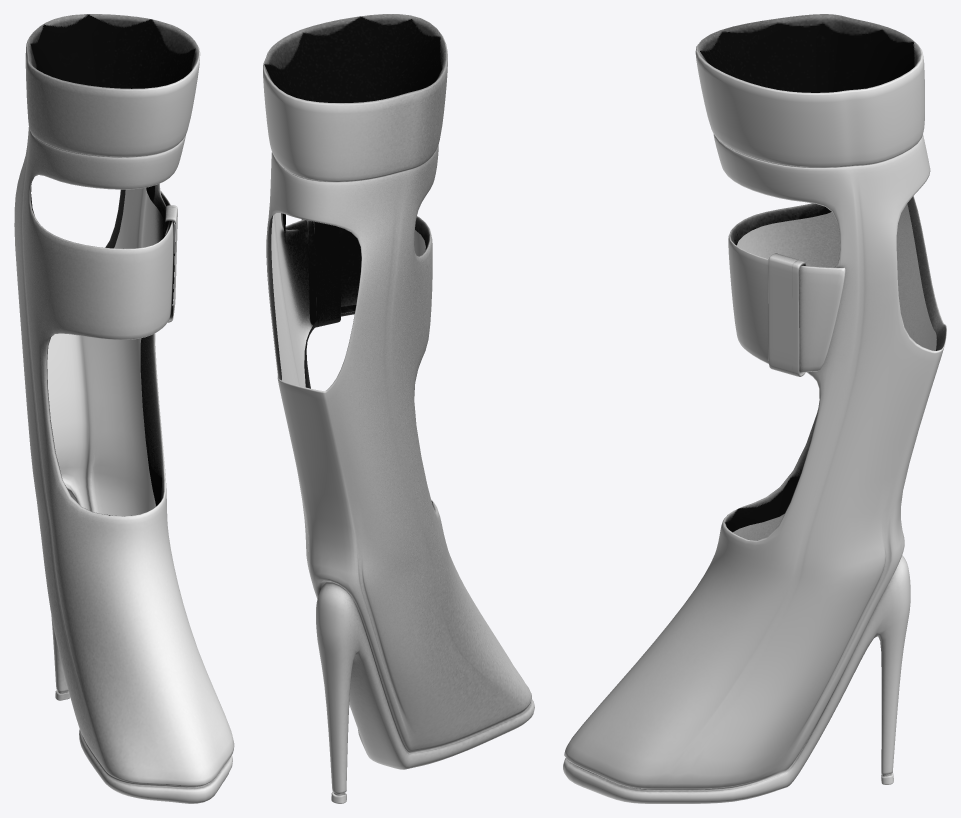
The model's file is ShoeL.dae.
The picture shows the model from 3 angles, left to right: view 1: azimuth 30°, elevation 25°; view 2: azimuth 150°, elevation 25°; view 3: azimuth 270°, elevation 25°; orthographic projection. The views are drawn at different scales.
Visible parts, largest first — view 1: prim0; view 2: prim0; view 3: prim0.
Boxes of the visible parts, left/top/right/bottom form: prim0: left=14, top=14, right=234, bottom=803; prim0: left=263, top=14, right=534, bottom=803; prim0: left=563, top=14, right=946, bottom=803.
Size of the model in its own units: 0.0962 by 0.1834 by 0.3914.
2 materials, 2 textured.
